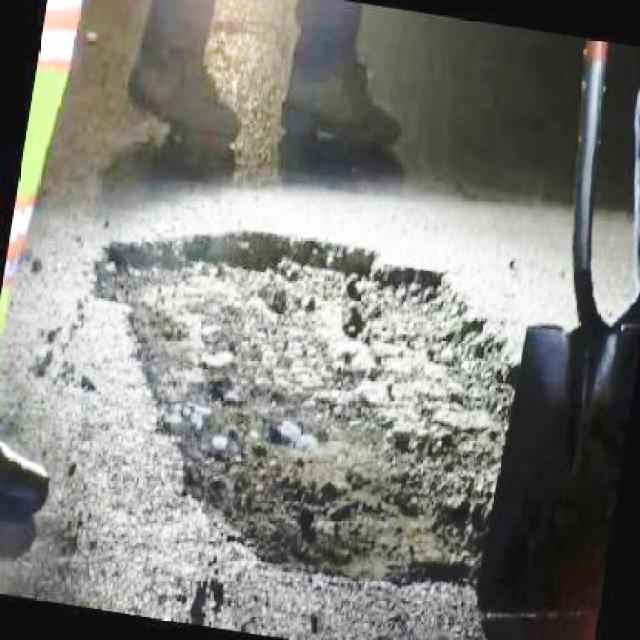pothole: (88, 226, 524, 591)
